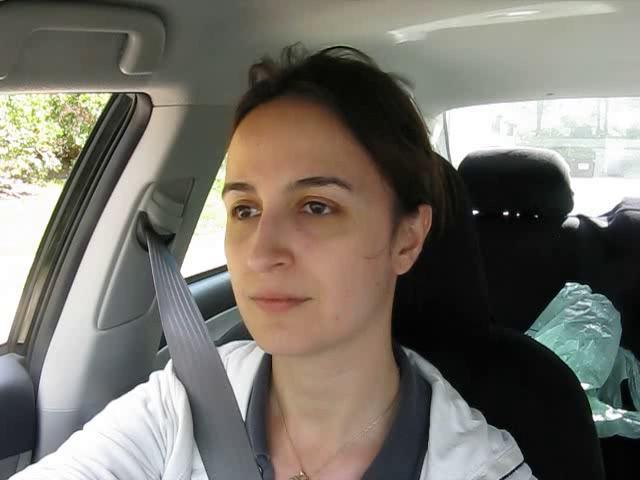no_yawn: (234, 280, 319, 322)
open_eyeL: (223, 194, 268, 230)
open_eyeR: (291, 189, 352, 228)
